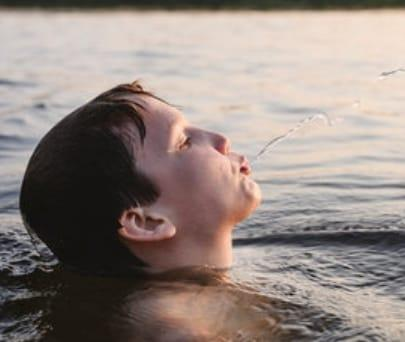Spitting: (14, 75, 290, 256)
